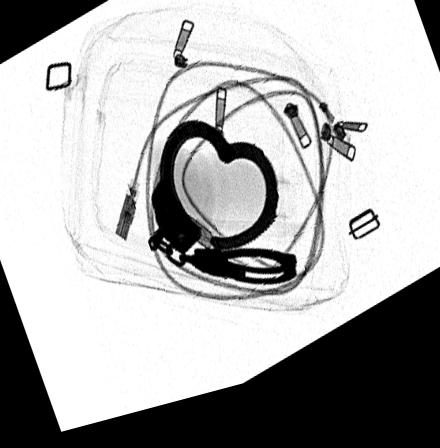HandCuffs: (142, 129, 299, 304)
